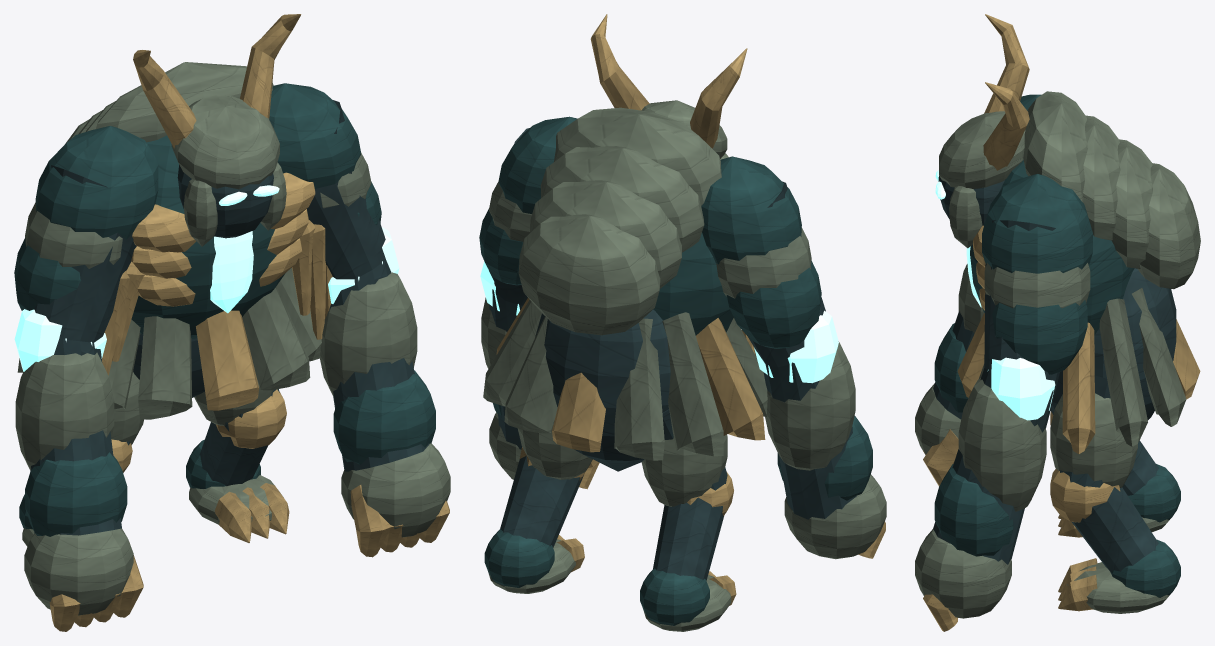
Rendered from bell_warden.glb.
The picture shows the model from 3 angles, left to right: view 1: azimuth 30°, elevation 25°; view 2: azimuth 150°, elevation 25°; view 3: azimuth 270°, elevation 25°; orthographic projection. The views are drawn at different scales.
Visible parts, largest first — view 1: Shoulder_LPlates, Shoulder_RPlates, SpinePlates, HeadPivotPlates, Hip_R0Plates, Bell_LPlates, Bell_RPlates, Hip_L0Plates; view 2: SpinePlates, Shoulder_LPlates, Hip_L0Plates, Shoulder_RPlates, Hip_R0Plates, HeadPivotPlates; view 3: Shoulder_RPlates, SpinePlates, Hip_R0Plates, HeadPivotPlates, Shoulder_LPlates, Hip_L0Plates, Bell_RPlates.
Part boxes in pixels (<box>): Shoulder_LPlates: <box>14,126,158,631</box>; Shoulder_RPlates: <box>269,83,450,557</box>; SpinePlates: <box>17,62,321,419</box>; HeadPivotPlates: <box>133,14,301,246</box>; Hip_R0Plates: <box>186,377,289,542</box>; Bell_LPlates: <box>102,204,196,375</box>; Bell_RPlates: <box>259,172,332,339</box>; Hip_L0Plates: <box>19,372,144,546</box>; SpinePlates: <box>483,107,767,471</box>; Shoulder_LPlates: <box>701,156,886,559</box>; Hip_L0Plates: <box>640,409,736,631</box>; Shoulder_RPlates: <box>479,116,599,489</box>; Hip_R0Plates: <box>484,423,592,593</box>; HeadPivotPlates: <box>590,14,747,159</box>; Shoulder_RPlates: <box>915,174,1092,631</box>; SpinePlates: <box>957,91,1200,453</box>; Hip_R0Plates: <box>1050,375,1180,613</box>; HeadPivotPlates: <box>935,14,1029,248</box>; Shoulder_LPlates: <box>915,94,1041,486</box>; Hip_L0Plates: <box>1050,411,1180,537</box>; Bell_RPlates: <box>973,225,985,310</box>.
Bounding box in the file's own units: 1.63 × 2.12 × 1.05.
2 materials, 1 textured.
